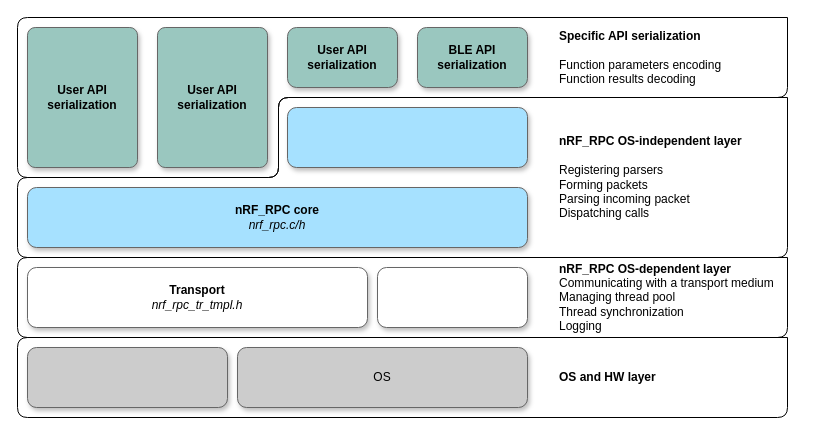
The diagram is 815 pixels wide and 436 high, and some of its shapes have lost their labels. Here are the shapes that lost their labels. From the top down, the centre of each, then its label:
At [408,138]: "TinyCBOR serialization nrf_rpc_cbor.c/h".
At [453,298]: "Logger abstraction nrf_rpc_log_tmpl.h".
At [128,378]: "Physical transport medium (e.g. shared memory, UART)".
